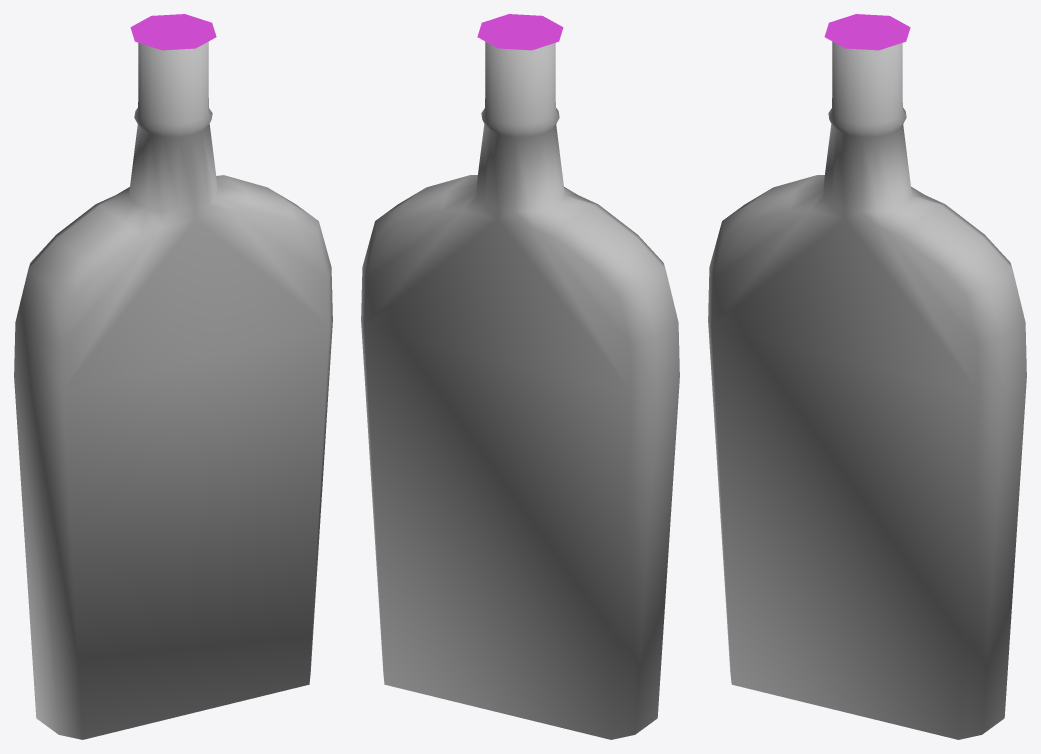
File: Flask.fbx
The picture shows the model from 3 angles, left to right: view 1: azimuth 30°, elevation 25°; view 2: azimuth 150°, elevation 25°; view 3: azimuth 330°, elevation 25°; orthographic projection.
Parts seen in each view (by area): view 1: Flask, FlaskSpout; view 2: Flask, FlaskSpout; view 3: Flask, FlaskSpout.
Boxes of the visible parts, x1,y1,x2,y2 form: Flask: (14, 41, 332, 739); FlaskSpout: (130, 14, 216, 50); Flask: (361, 41, 679, 739); FlaskSpout: (477, 14, 563, 50); Flask: (708, 41, 1026, 739); FlaskSpout: (824, 14, 910, 50).
Size of what is drawn, in the model's own units: 19 by 40.65 by 5.
